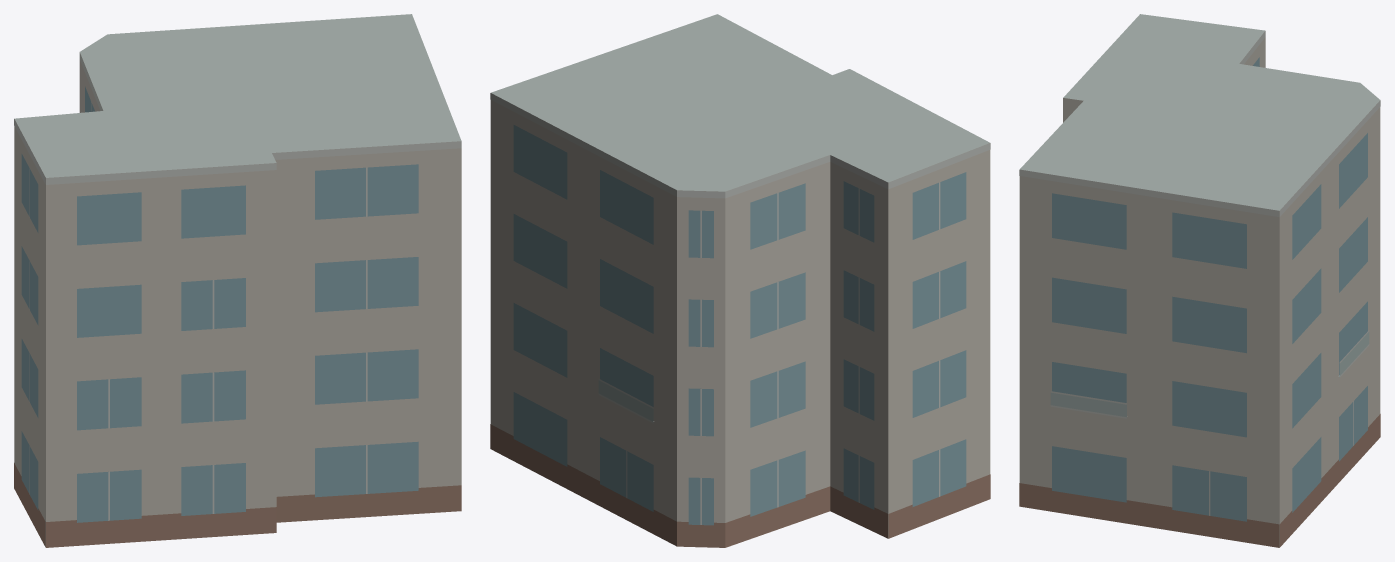
File: survey-upis-32672293.glb
3 views of the same model, side by side, from view 1: azimuth 30°, elevation 25°; view 2: azimuth 150°, elevation 25°; view 3: azimuth 270°, elevation 25° (orthographic). The views are drawn at different scales.
Visible parts, largest first — view 1: survey-upis-32672293.tmp; view 2: survey-upis-32672293.tmp; view 3: survey-upis-32672293.tmp.
Part boxes in pixels (left/top/right/bottom): survey-upis-32672293.tmp: left=14, top=14, right=461, bottom=547; survey-upis-32672293.tmp: left=490, top=14, right=990, bottom=547; survey-upis-32672293.tmp: left=1019, top=14, right=1380, bottom=547.
Bounding box in the file's own units: 16.04 × 12.8 × 12.43.
